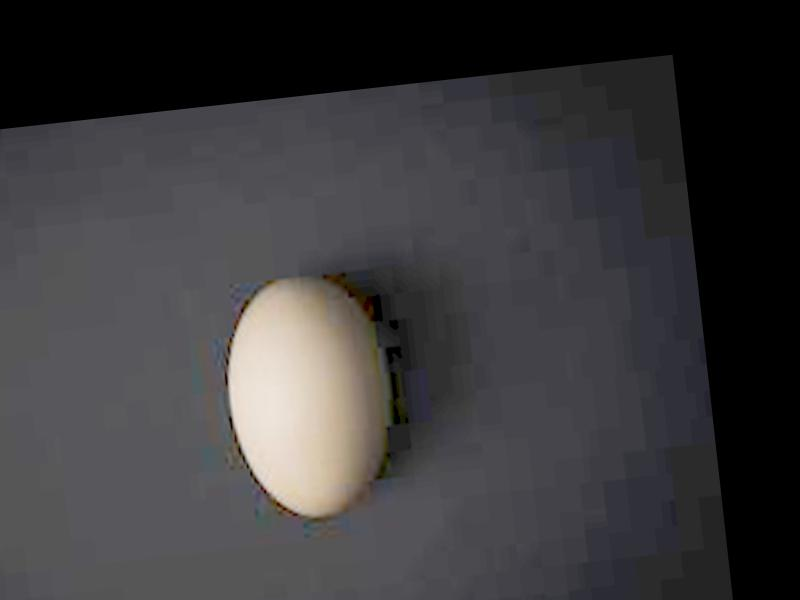Eggs: (217, 265, 397, 530)
